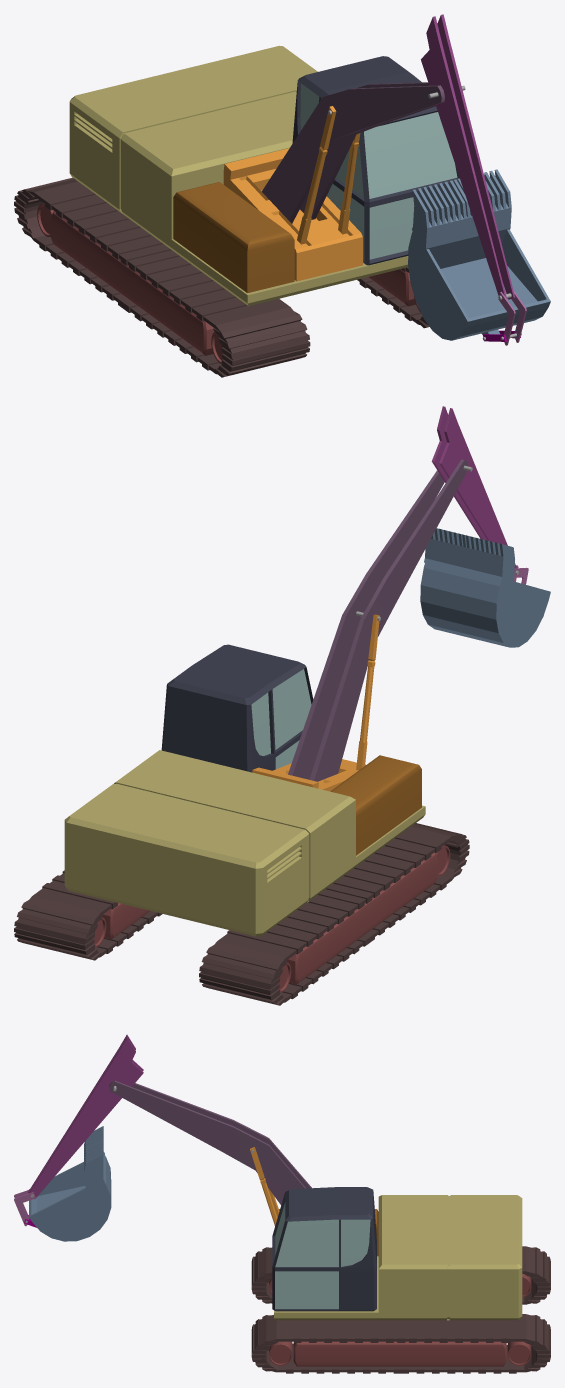
Rendered from Excavator.fbx.
The picture shows the model from 3 angles, top to bottom: view 1: azimuth 30°, elevation 25°; view 2: azimuth 150°, elevation 25°; view 3: azimuth 270°, elevation 25°; orthographic projection. The views are drawn at different scales.
Visible parts, largest first — view 1: Basecopy, erp (×2), pCylinder3, new_cockpit_gls, crane, pCube8, pCube4, pCube5, wheel1_pCube9, Cockpit1_metal, wheel_pCube9, pCube6; view 2: Basecopy, erp (×2), crane, Cockpit1_metal, pCylinder3, wheel1_pCube9, pCube8, pCube5, new_cockpit_gls, pCube4, wheel_pCube9; view 3: Basecopy, erp (×2), new_cockpit_gls, wheel_pCube9, Cockpit1_metal, crane, pCylinder3, pCube5, pCube4.
Boxes of the visible parts, x1,y1,x2,y2 form: Basecopy: (69, 45, 408, 305); erp (×2): (14, 177, 429, 377); pCylinder3: (408, 169, 550, 340); new_cockpit_gls: (300, 83, 457, 259); crane: (262, 82, 444, 223); pCube8: (173, 182, 294, 292); pCube4: (223, 106, 362, 281); pCube5: (421, 14, 514, 299); wheel1_pCube9: (37, 203, 223, 364); Cockpit1_metal: (292, 56, 459, 265); wheel_pCube9: (368, 269, 420, 312); pCube6: (498, 290, 526, 345); Basecopy: (64, 750, 425, 936); erp (×2): (14, 823, 469, 1005); crane: (288, 459, 468, 781); Cockpit1_metal: (161, 644, 313, 772); pCylinder3: (420, 528, 550, 647); wheel1_pCube9: (278, 845, 450, 992); pCube8: (330, 755, 421, 855); pCube5: (431, 406, 516, 568); new_cockpit_gls: (251, 669, 311, 769); pCube4: (252, 614, 379, 791); wheel_pCube9: (93, 903, 149, 947); Basecopy: (274, 1195, 522, 1320); erp (×2): (251, 1246, 550, 1373); new_cockpit_gls: (275, 1202, 370, 1308); wheel_pCube9: (269, 1341, 531, 1366); Cockpit1_metal: (272, 1187, 376, 1311); crane: (109, 1080, 311, 1204); pCylinder3: (29, 1126, 111, 1241); pCube5: (28, 1034, 143, 1198); pCube4: (250, 1147, 375, 1225).
Size of the model in its own units: 4.25 by 5.96 by 10.27.
